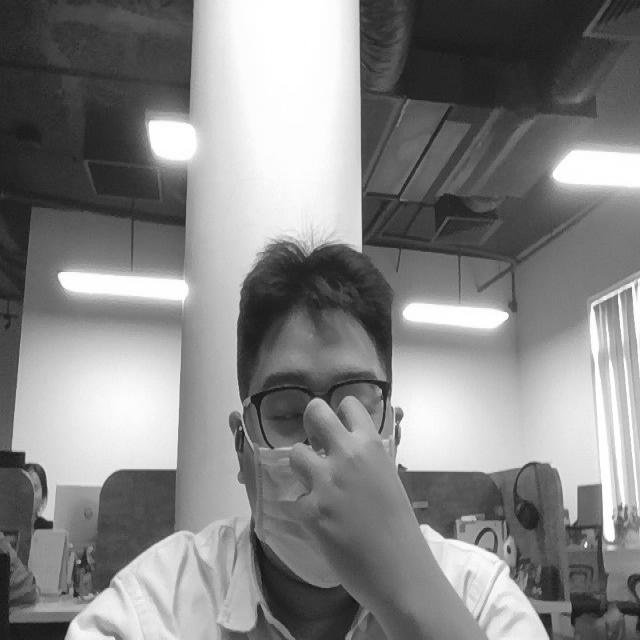fake: (285, 397, 491, 640), (232, 406, 401, 597)
real: (227, 224, 407, 596)
